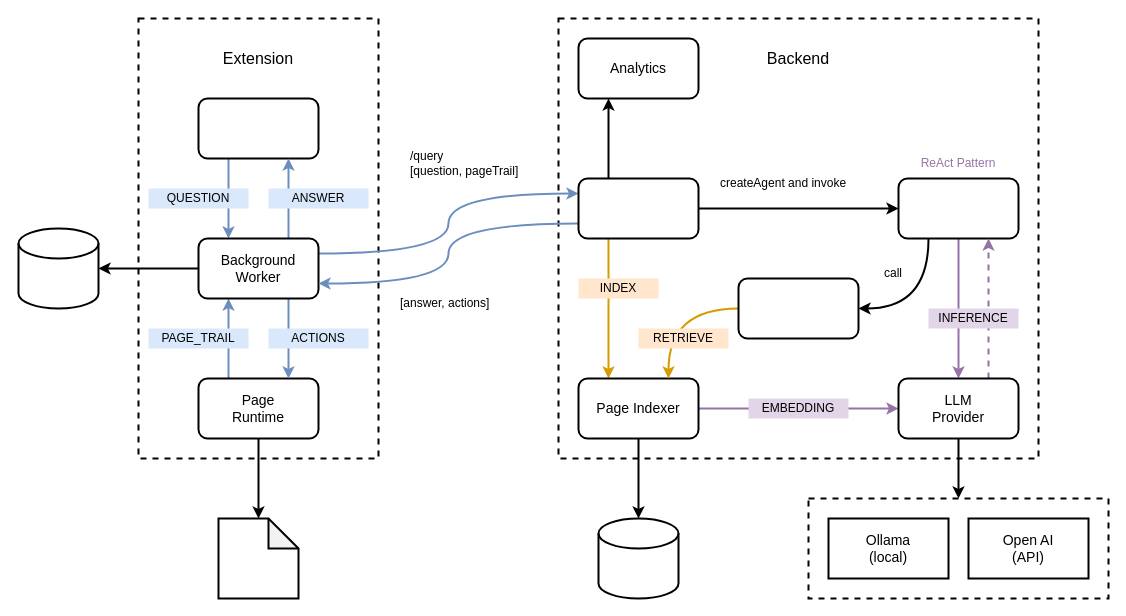
Image size: 1126x616. Some labels were removed from this diagram. The box of each missing label's shape, as (x1, y1, x2, y2) in pixels:
HTML Page: (217, 517, 299, 599)
Local Storage: (17, 227, 99, 309)
Popup: (197, 97, 319, 159)
Server: (577, 177, 699, 239)
Tools Registry: (737, 277, 859, 339)
Vectror Storage: (597, 517, 679, 599)
Web Navigation Agent: (897, 177, 1019, 239)
